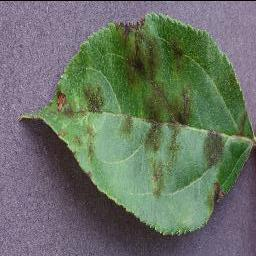apple healthy: (19, 10, 255, 237)
